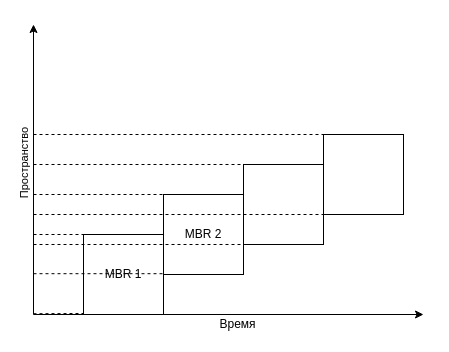
Some shapes in this 449 by 352 pixel diagram are drawn without their labels. The box of each missing label's shape, as (x1, y1, x2, y2) in pixels:
MBR 3: (242, 164, 324, 244)
MBR 4: (322, 134, 404, 214)
